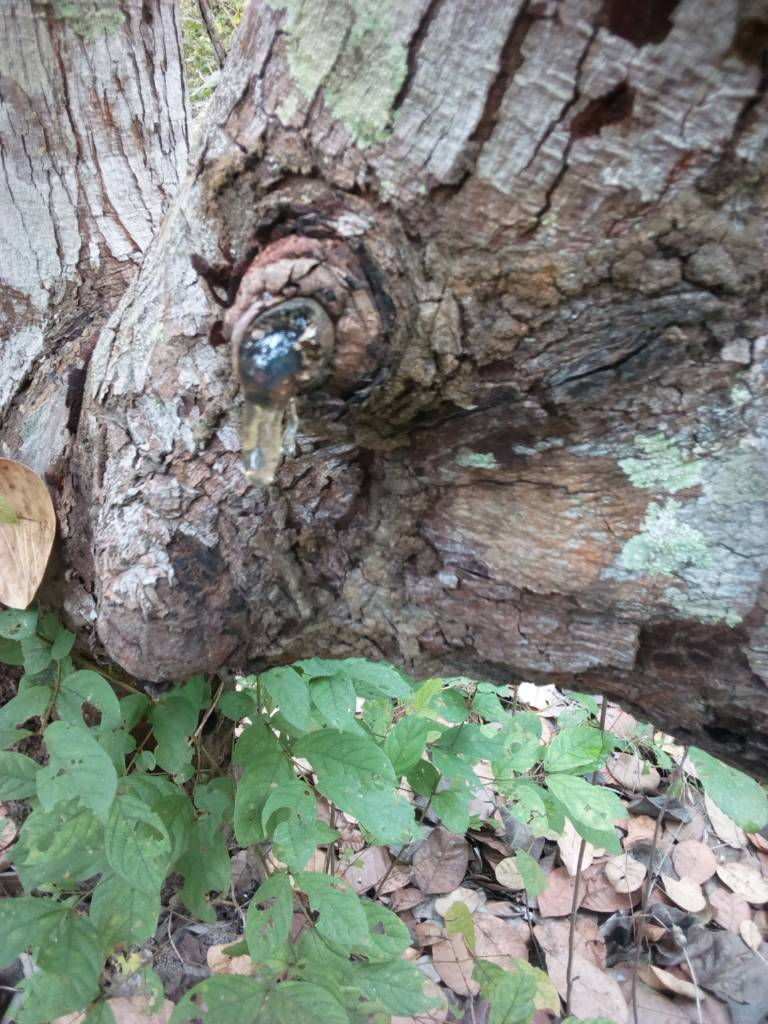Gommose: (215, 292, 347, 410)
